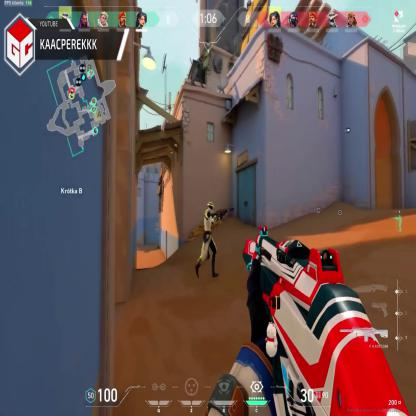enemy: (196, 200, 218, 282)
enemy_head: (207, 201, 214, 212)
